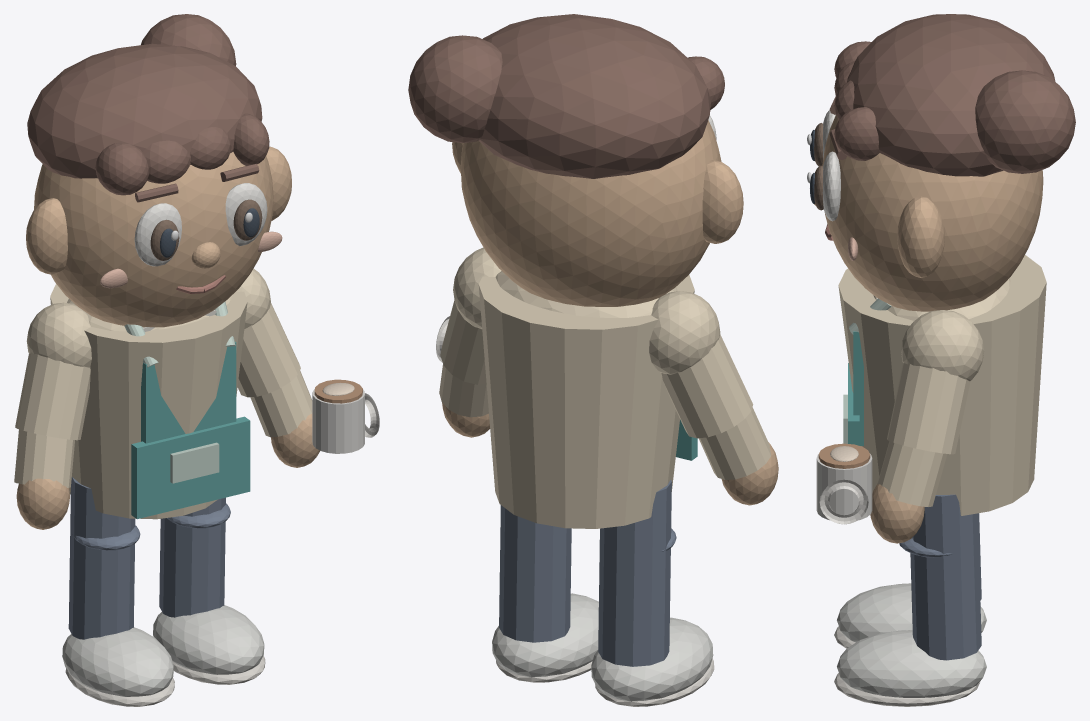
File: 02_Cafe_Maya.glb
3 renders of one model, left to right at view 1: azimuth 30°, elevation 25°; view 2: azimuth 150°, elevation 25°; view 3: azimuth 270°, elevation 25°, orthographic. The views are drawn at different scales.
Visible parts, largest first — view 1: 02_Cafe_Maya_head_019, 02_Cafe_Maya_hair_main_039, 02_Cafe_Maya_torso_008, 02_Cafe_Maya_pant_leg_002, 02_Cafe_Maya_apron_skirt_046, 02_Cafe_Maya_pant_leg_006, 02_Cafe_Maya_shoe_000, 02_Cafe_Maya_shoe_004, 02_Cafe_Maya_upper_arm_012, 02_Cafe_Maya_upper_arm_016, 02_Cafe_Maya_apron_bib_045, 02_Cafe_Maya_shoulder_011 (+24 smaller); view 2: 02_Cafe_Maya_torso_008, 02_Cafe_Maya_hair_main_039, 02_Cafe_Maya_head_019, 02_Cafe_Maya_pant_leg_002, 02_Cafe_Maya_pant_leg_006, 02_Cafe_Maya_hair_bun_044, 02_Cafe_Maya_upper_arm_012, 02_Cafe_Maya_shoe_000, 02_Cafe_Maya_shoe_004, 02_Cafe_Maya_shoulder_011, 02_Cafe_Maya_forearm_013, 02_Cafe_Maya_ear_020 (+10 smaller); view 3: 02_Cafe_Maya_torso_008, 02_Cafe_Maya_head_019, 02_Cafe_Maya_hair_main_039, 02_Cafe_Maya_pant_leg_006, 02_Cafe_Maya_hair_bun_044, 02_Cafe_Maya_shoe_004, 02_Cafe_Maya_upper_arm_016, 02_Cafe_Maya_shoulder_015, 02_Cafe_Maya_shoe_000, 02_Cafe_Maya_forearm_017, 02_Cafe_Maya_ear_027, 02_Cafe_Maya_hand_018 (+12 smaller).
Part boxes in pixels (<box>): 02_Cafe_Maya_head_019: <box>34,152,273,327</box>; 02_Cafe_Maya_hair_main_039: <box>27,43,262,178</box>; 02_Cafe_Maya_torso_008: <box>50,284,247,519</box>; 02_Cafe_Maya_pant_leg_002: <box>68,477,135,639</box>; 02_Cafe_Maya_apron_skirt_046: <box>131,416,250,519</box>; 02_Cafe_Maya_pant_leg_006: <box>159,497,225,617</box>; 02_Cafe_Maya_shoe_000: <box>62,627,173,696</box>; 02_Cafe_Maya_shoe_004: <box>153,605,264,674</box>; 02_Cafe_Maya_upper_arm_012: <box>15,352,90,440</box>; 02_Cafe_Maya_upper_arm_016: <box>237,303,300,397</box>; 02_Cafe_Maya_apron_bib_045: <box>141,342,236,443</box>; 02_Cafe_Maya_shoulder_011: <box>26,302,91,367</box>; 02_Cafe_Maya_torso_008: <box>478,275,694,528</box>; 02_Cafe_Maya_hair_main_039: <box>479,14,710,178</box>; 02_Cafe_Maya_head_019: <box>460,120,721,306</box>; 02_Cafe_Maya_pant_leg_002: <box>598,479,671,666</box>; 02_Cafe_Maya_pant_leg_006: <box>499,505,571,642</box>; 02_Cafe_Maya_hair_bun_044: <box>408,35,502,142</box>; 02_Cafe_Maya_upper_arm_012: <box>661,335,753,438</box>; 02_Cafe_Maya_shoe_000: <box>591,617,713,701</box>; 02_Cafe_Maya_shoe_004: <box>492,593,598,677</box>; 02_Cafe_Maya_shoulder_011: <box>649,291,720,374</box>; 02_Cafe_Maya_forearm_013: <box>698,407,771,479</box>; 02_Cafe_Maya_ear_020: <box>702,160,743,243</box>; 02_Cafe_Maya_torso_008: <box>838,255,1046,515</box>; 02_Cafe_Maya_head_019: <box>822,114,1043,311</box>; 02_Cafe_Maya_hair_main_039: <box>846,14,1055,176</box>; 02_Cafe_Maya_pant_leg_006: <box>910,494,981,660</box>; 02_Cafe_Maya_hair_bun_044: <box>975,70,1075,173</box>; 02_Cafe_Maya_shoe_004: <box>837,630,986,697</box>; 02_Cafe_Maya_upper_arm_016: <box>887,363,970,454</box>; 02_Cafe_Maya_shoulder_015: <box>901,310,984,381</box>; 02_Cafe_Maya_shoe_000: <box>837,583,986,642</box>; 02_Cafe_Maya_forearm_017: <box>877,441,947,506</box>; 02_Cafe_Maya_ear_027: <box>897,196,944,277</box>; 02_Cafe_Maya_hand_018: <box>870,484,924,543</box>.
Size of the model in its own units: 1.29 by 2.3 by 0.877.
